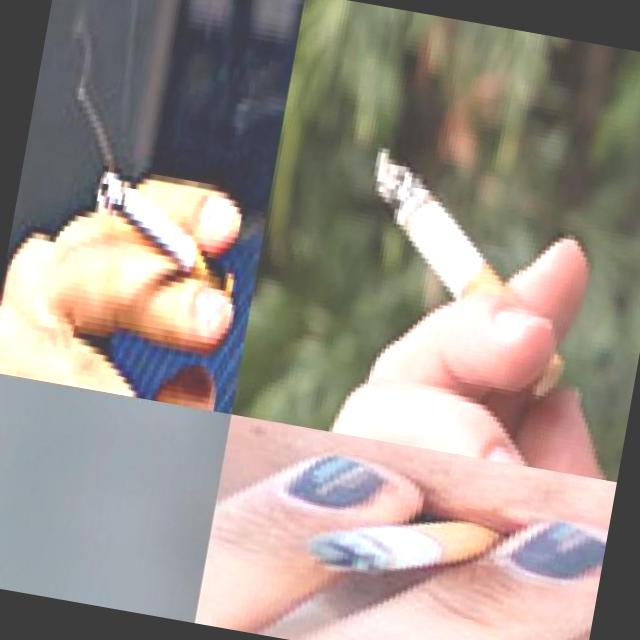smoke: (0, 387, 189, 614), (349, 136, 507, 293), (82, 168, 250, 300), (306, 494, 507, 596)
